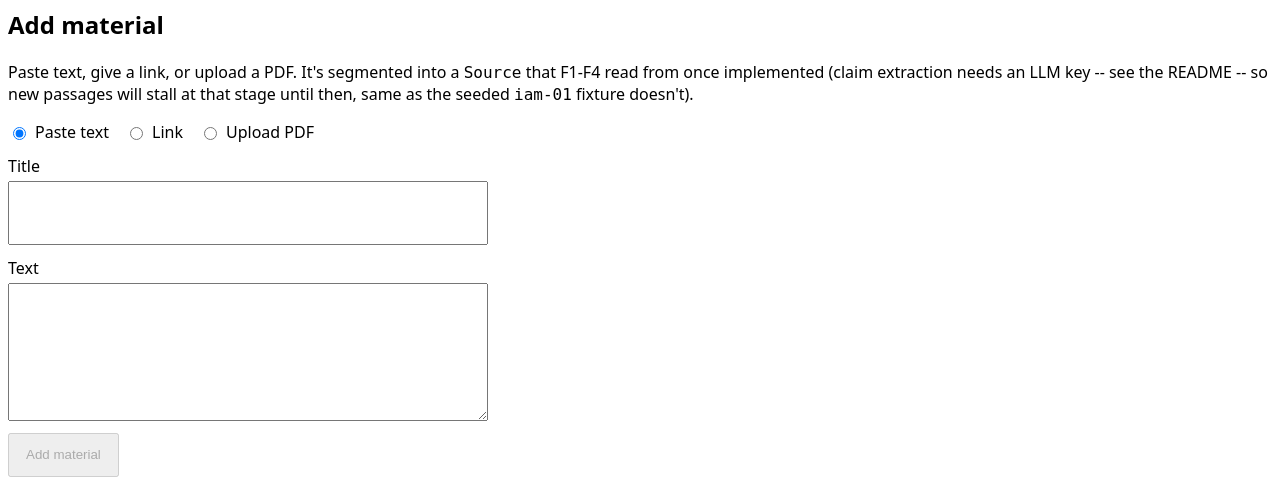
Test case: AddMaterial › disables submit until a title and text are present
expect the button "Add material" is disabled: met, box [8,433,119,477]
Type "My passage" into the field labelled "Title" at (248, 213), box [8,181,488,245]
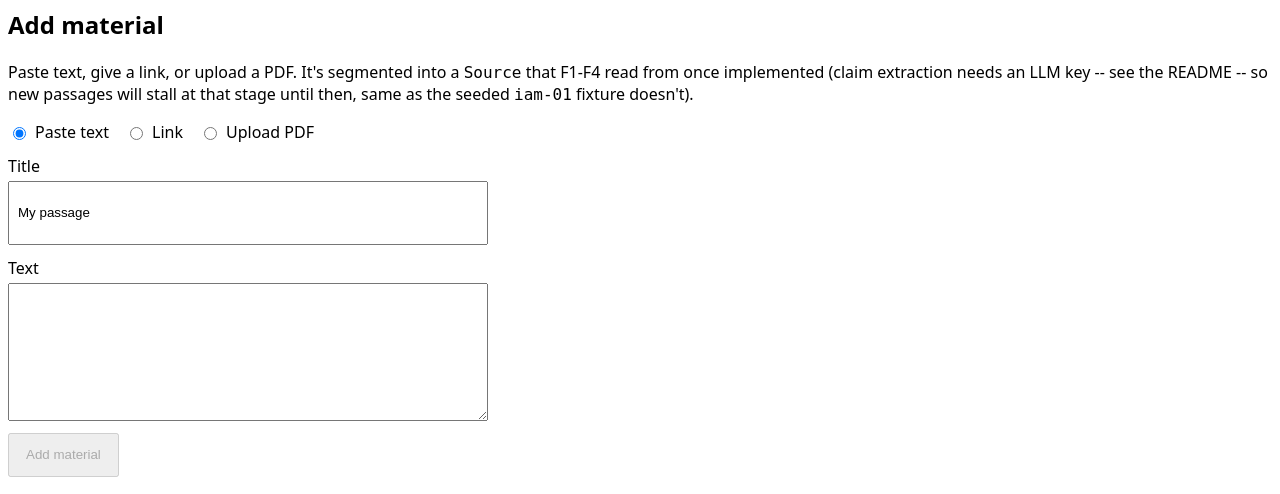
expect the button "Add material" is disabled: met, box [8,433,119,477]
Type "Some sentence." into the text box labelled "Text" at (248, 352), box [8,283,488,421]
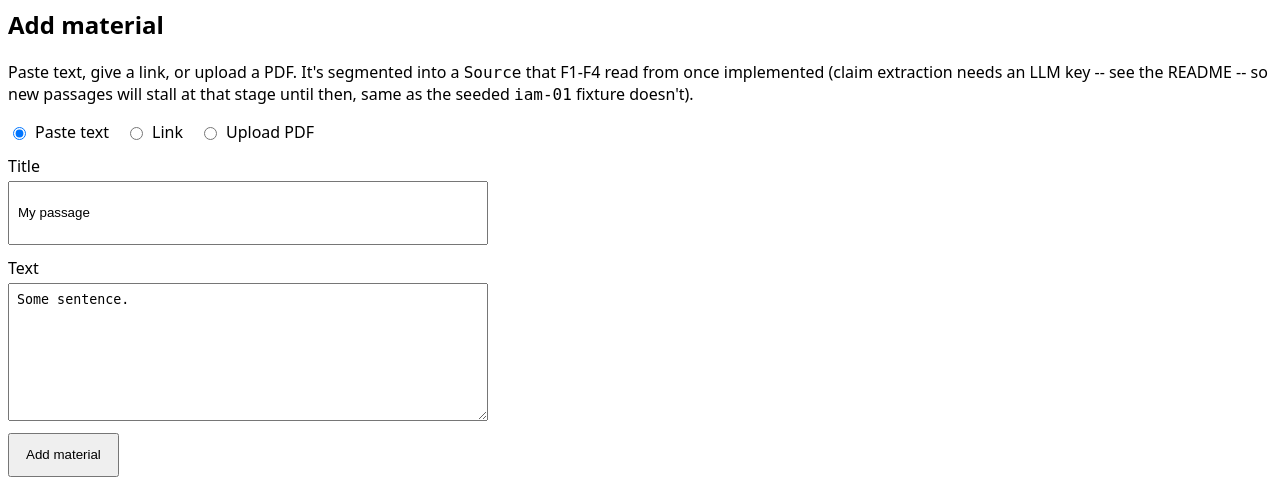
expect the button "Add material" is enabled: met, box [8,433,119,477]
